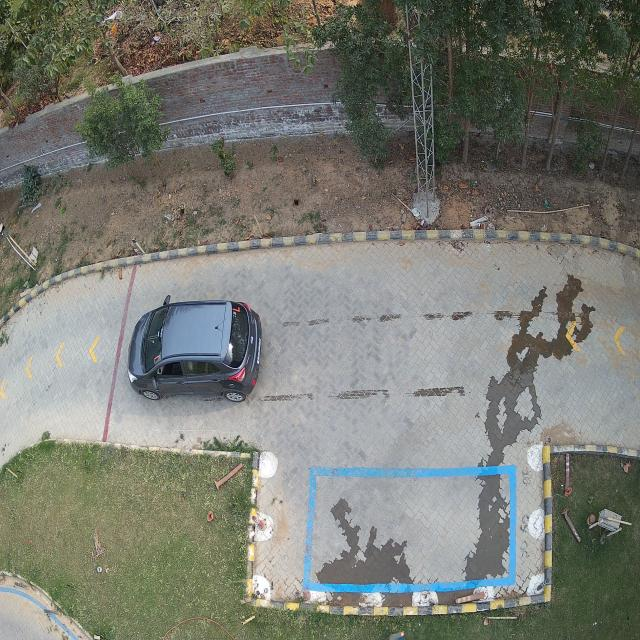car: (128, 297, 261, 402)
